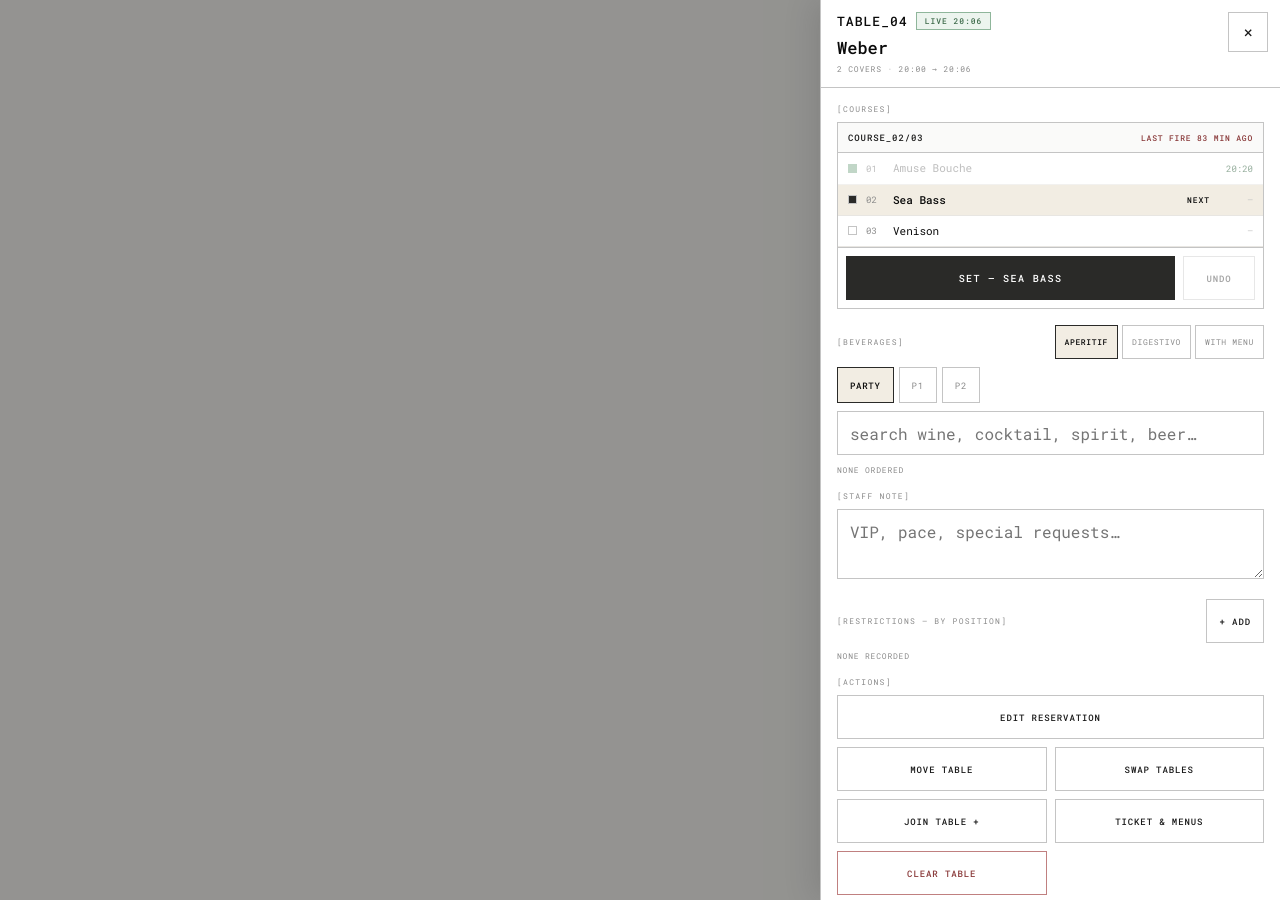
it: TableSheet — EDIT RESERVATION › says what a cover change will do to the live table before it does it
The width and height of the screenshot is (1280, 900).
Click the button "EDIT RESERVATION".
click(1050, 717)  # box [837,695,1264,739]
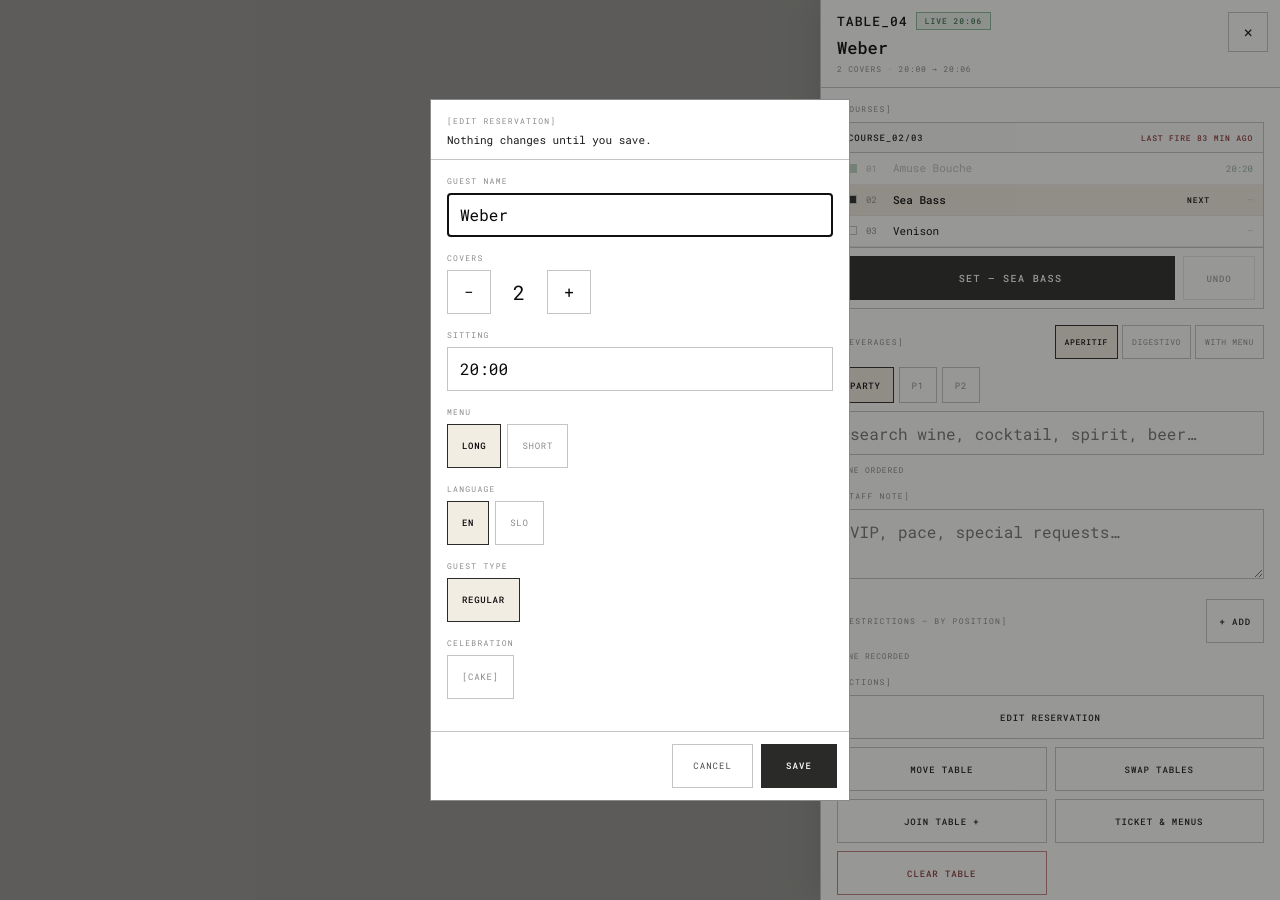
Expected: the text "Saving resizes the table" is not shown
Click the button named "One cover more".
click(569, 292)  # box [547,270,591,314]
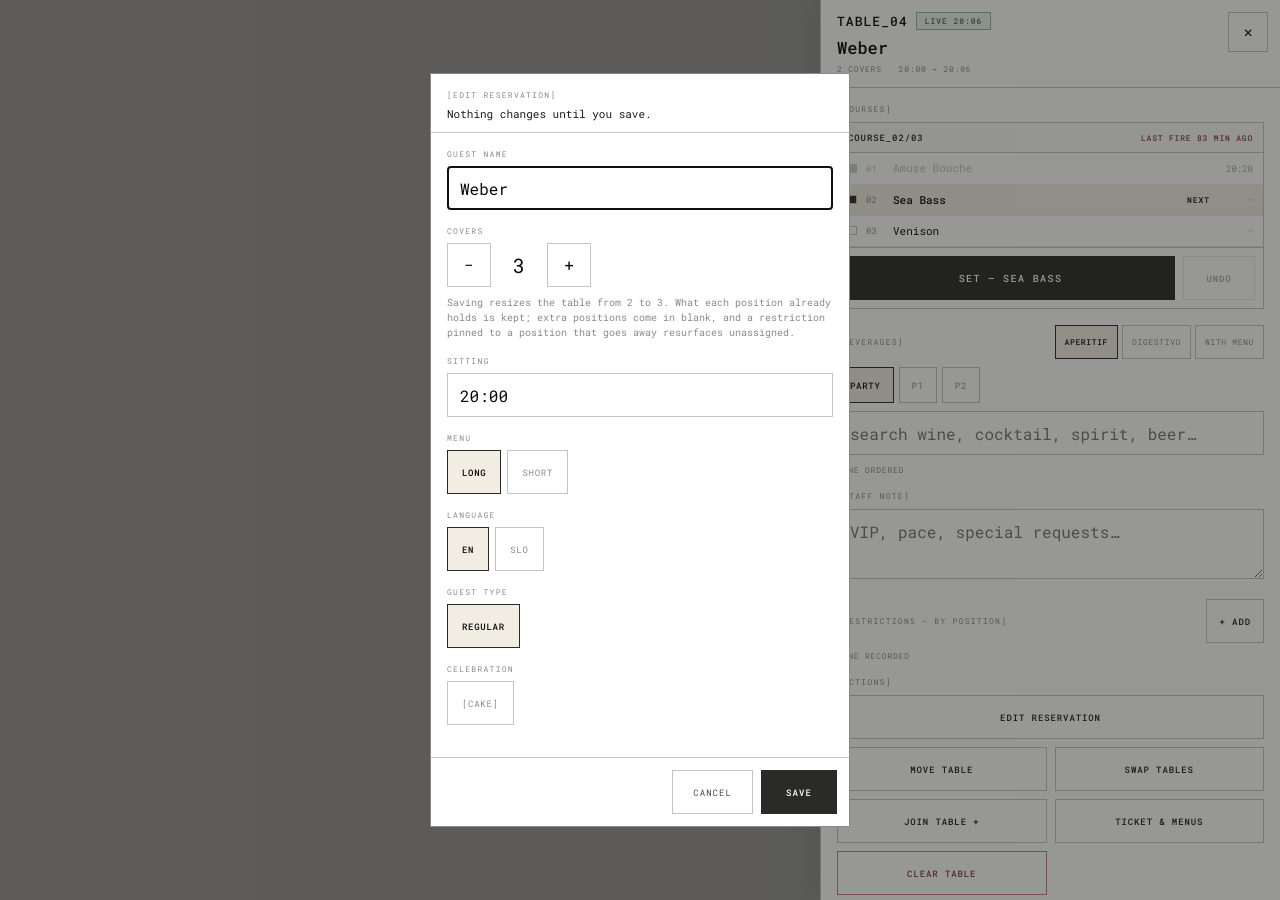
Expected: the text "Saving resizes the table from 2 to 3" is shown, [447,295,833,340]
